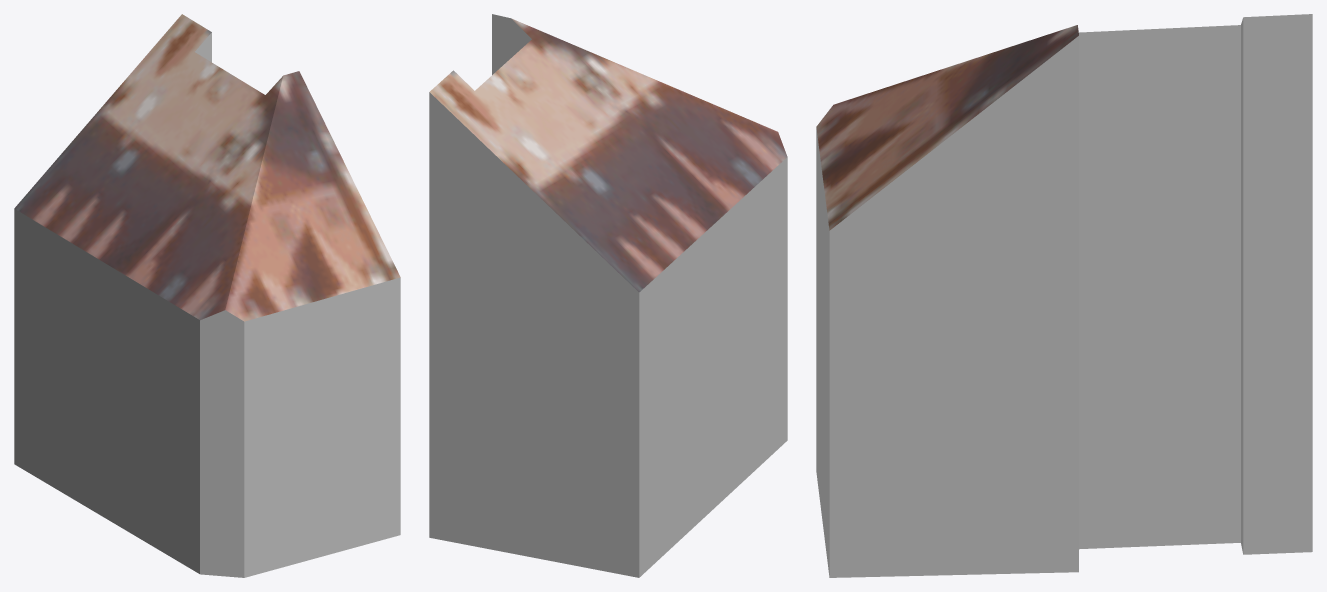
The model's file is DEBW_0010007Tx8H.gltf.
3 views of the same model, side by side, from view 1: azimuth 30°, elevation 25°; view 2: azimuth 150°, elevation 25°; view 3: azimuth 270°, elevation 25° (orthographic). The views are drawn at different scales.
Visible parts, largest first — view 1: Z_UP; view 2: Z_UP; view 3: Z_UP.
Part boxes in pixels (bbox=[...]): Z_UP: bbox=[14, 14, 400, 577]; Z_UP: bbox=[429, 14, 787, 577]; Z_UP: bbox=[816, 14, 1312, 577].
Bounding box in the file's own units: 14.19 × 24.93 × 20.83.
Materials: 2 (1 with a texture image).
